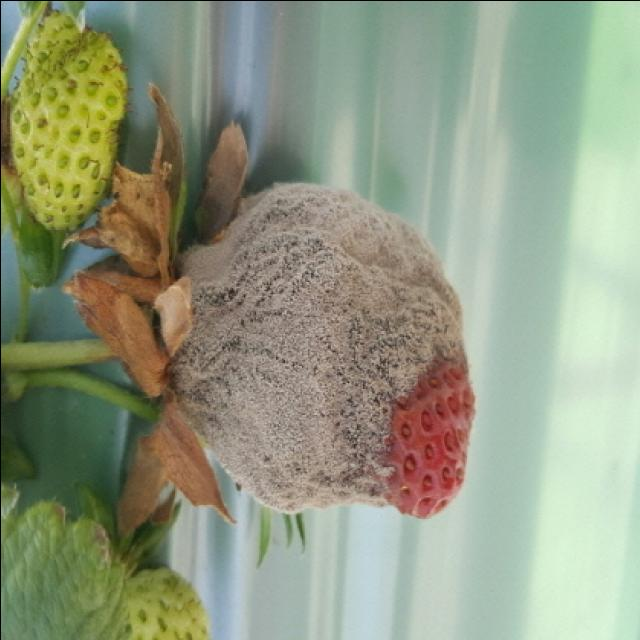Gray Mold: (163, 179, 468, 517)
